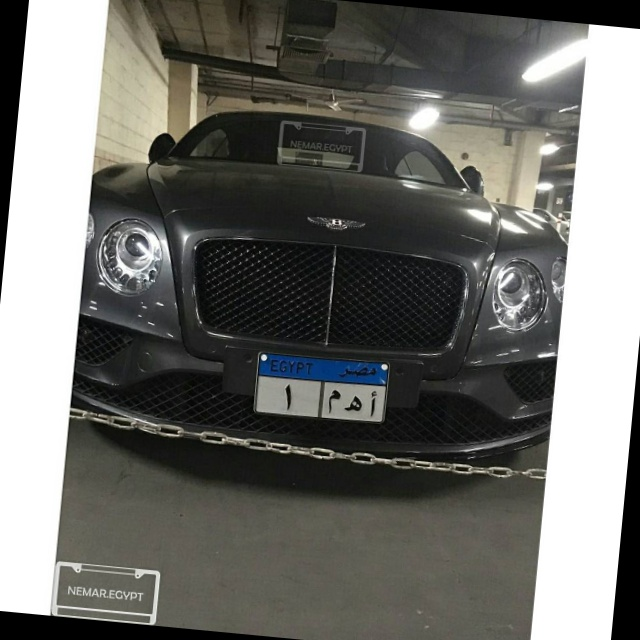License Plate: (249, 347, 394, 428)
